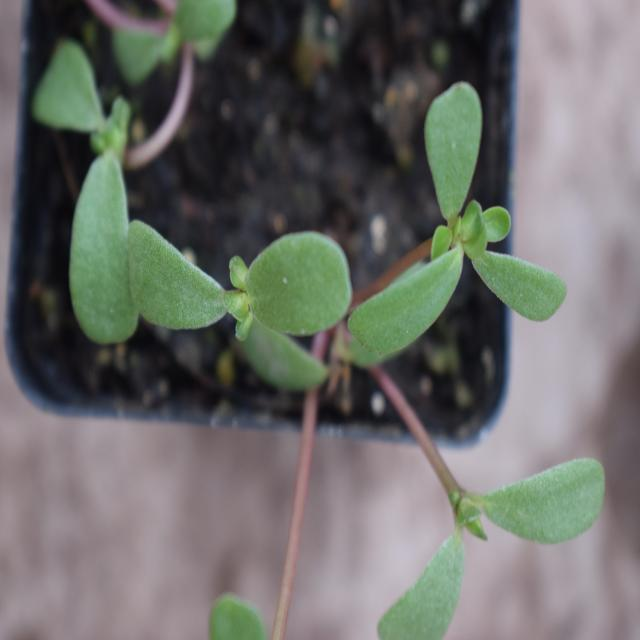purslane: (39, 65, 609, 601)
